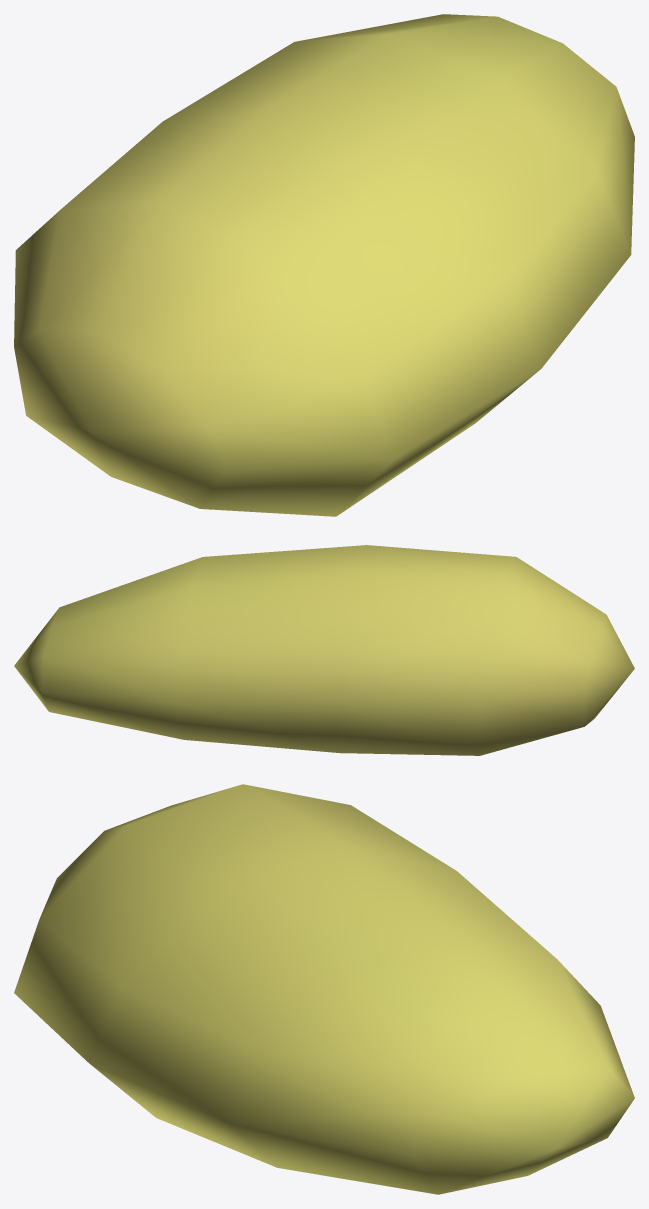
Rendered from PC_Woman_Eyebrow009_R.glb.
3 views of the same model, one above another, from view 1: azimuth 30°, elevation 25°; view 2: azimuth 150°, elevation 25°; view 3: azimuth 270°, elevation 25° (orthographic). The views are drawn at different scales.
Parts seen in each view (by area): view 1: PC_Woman_Eyebrow009_R_mesh; view 2: PC_Woman_Eyebrow009_R_mesh; view 3: PC_Woman_Eyebrow009_R_mesh.
Part boxes in pixels (<box>): PC_Woman_Eyebrow009_R_mesh: <box>14,14,634,516</box>; PC_Woman_Eyebrow009_R_mesh: <box>14,545,634,755</box>; PC_Woman_Eyebrow009_R_mesh: <box>14,784,634,1194</box>.
Size of the model in its own units: 0.1055 by 0.0393 by 0.0914.
Materials: 1 (1 with a texture image).
